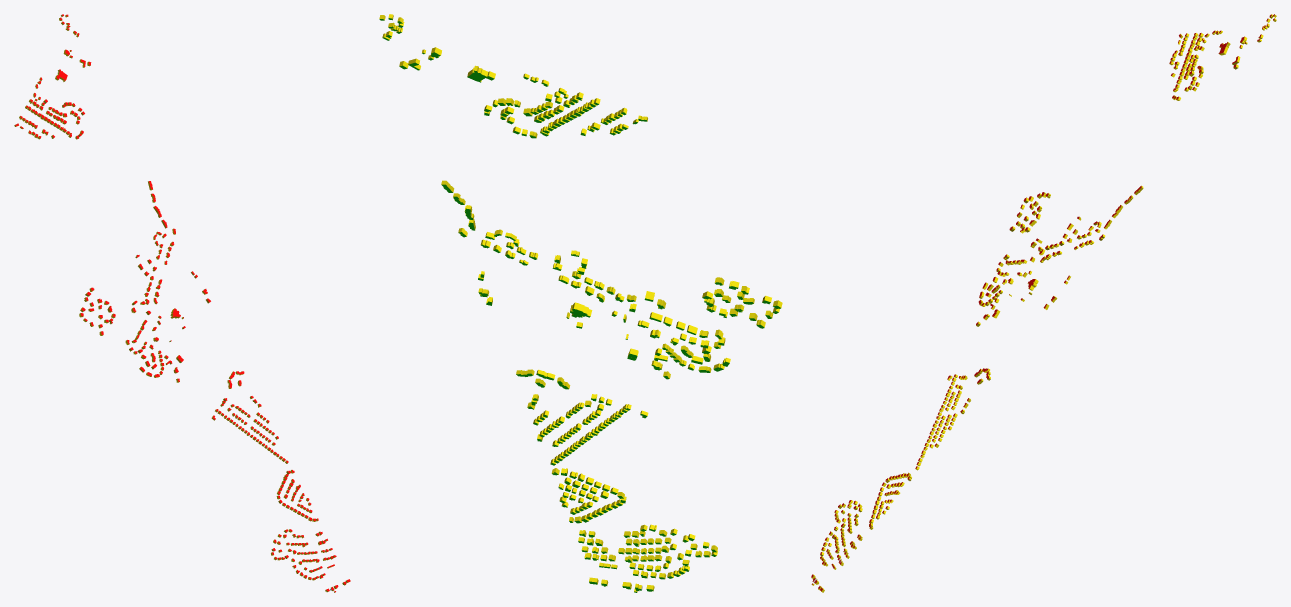
3 views of the same model, side by side, from view 1: azimuth 30°, elevation 25°; view 2: azimuth 150°, elevation 25°; view 3: azimuth 270°, elevation 25° (orthographic). The views are drawn at different scales.
Parts seen in each view (by area): view 1: mesh; view 2: mesh; view 3: mesh.
Part boxes in pixels (x1,y1,x2,y2): mesh: [14, 14, 350, 592]; mesh: [379, 14, 782, 592]; mesh: [811, 14, 1276, 592].
Size of the model in its own units: 1226 by 2888 by 2306.
